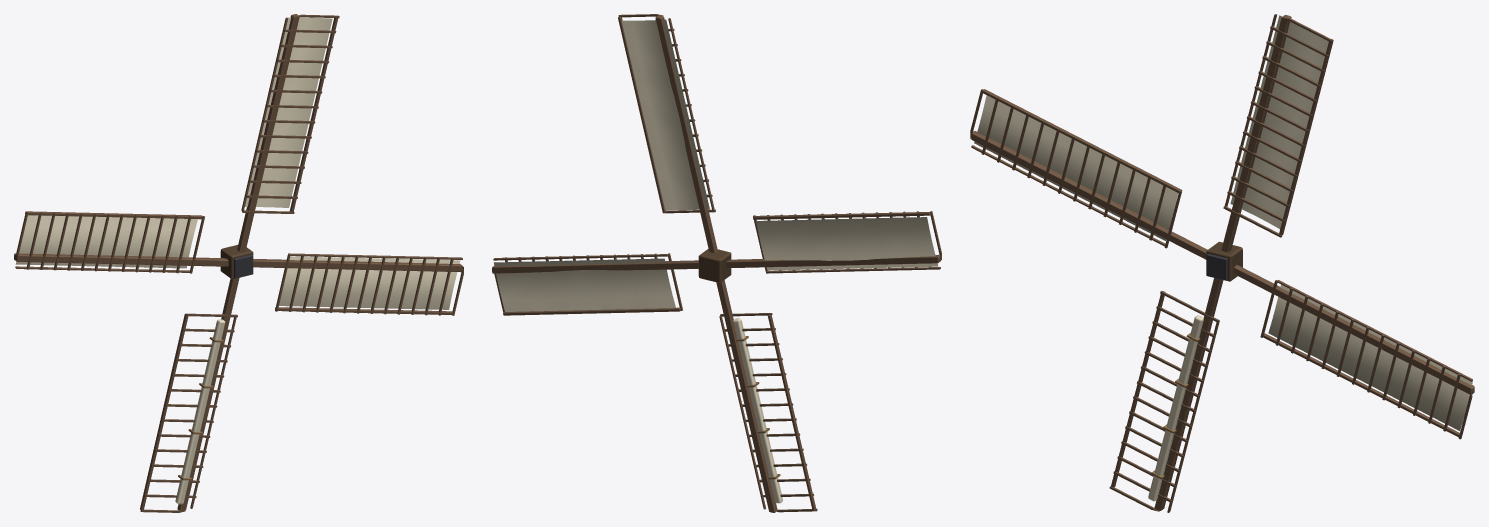
Rendered from mill_lake_sails.glb.
The picture shows the model from 3 angles, left to right: view 1: azimuth 30°, elevation 25°; view 2: azimuth 150°, elevation 25°; view 3: azimuth 330°, elevation 25°; orthographic projection. The views are drawn at different scales.
Parts seen in each view (by area): view 1: mill_lake_sails_LOD0; view 2: mill_lake_sails_LOD0; view 3: mill_lake_sails_LOD0.
Part boxes in pixels (x1,y1,x2,y2): mill_lake_sails_LOD0: (14, 14, 463, 512); mill_lake_sails_LOD0: (492, 14, 941, 512); mill_lake_sails_LOD0: (970, 14, 1474, 512).
Size of what is drawn, in the model's own units: 12 by 12 by 0.62.
